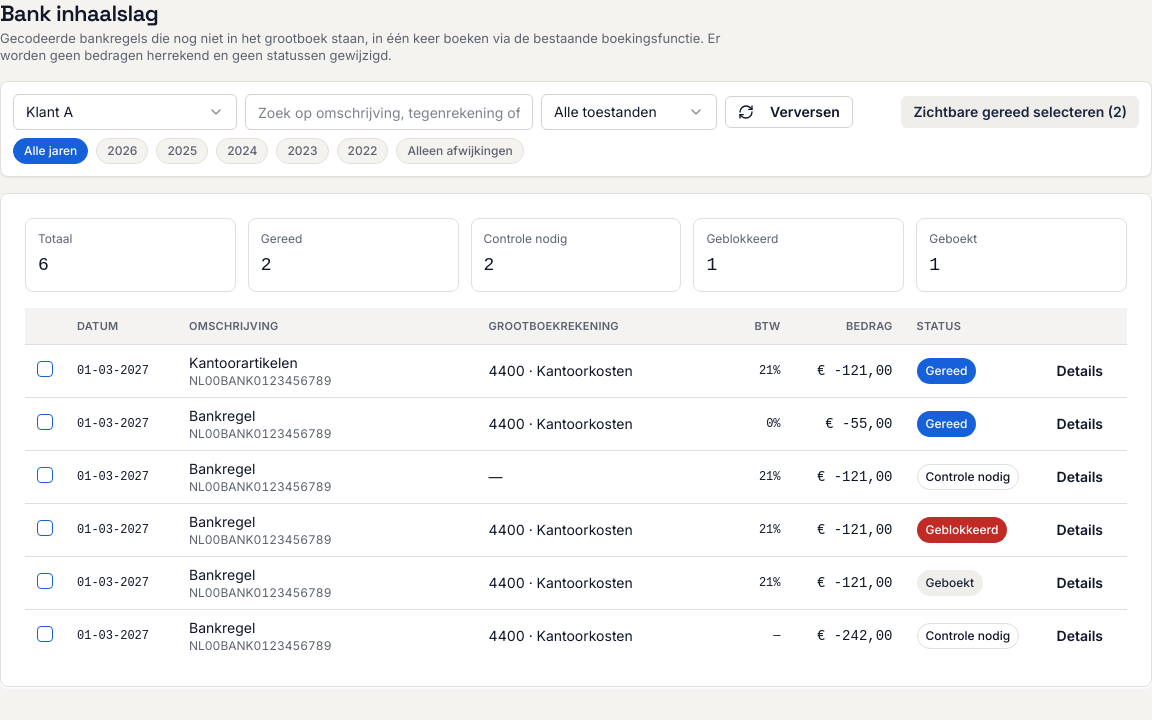
Test: geen stille BTW › 4b. een 'gereed'-regel zonder BTW-keuze wordt 'controle nodig' met reden, is niet selecteerbaar en gaat niet mee
The width and height of the screenshot is (1152, 720).
Expected: the text with test id "inhaalslag-state" reads "Controle nodig", [926,628,1010,643]
Expected: the 6th checkbox with test id "inhaalslag-checkbox" is disabled, [37,626,53,642]
Click the button with test id "inhaalslag-selecteer-zichtbaar". click: (1020, 112)
box: [901,96,1139,128]
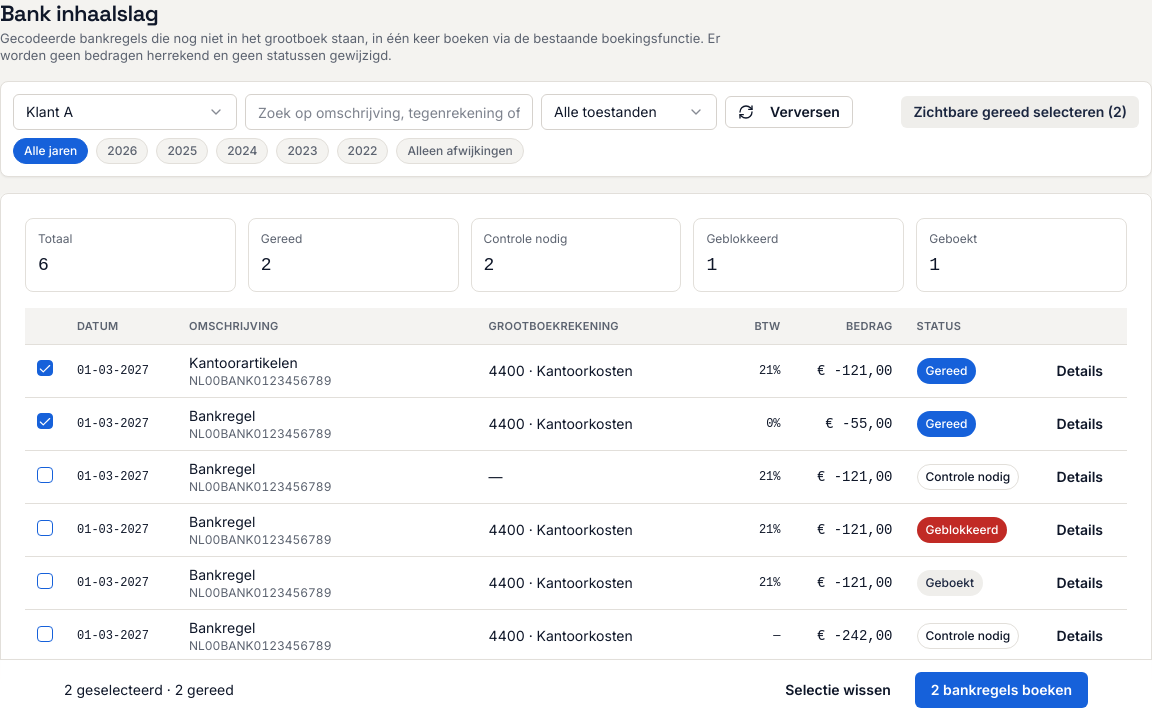
Expected: the text with test id "bulkbalk-gereed" reads "2", [175,681,183,698]
